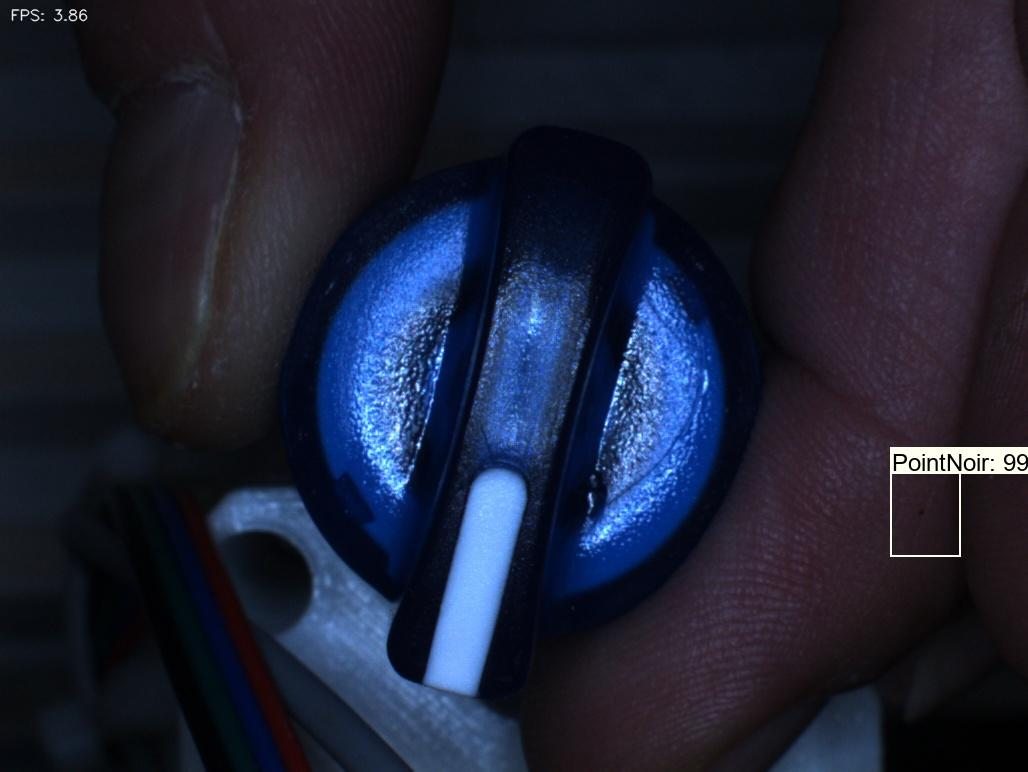Choc: (548, 451, 634, 552)
